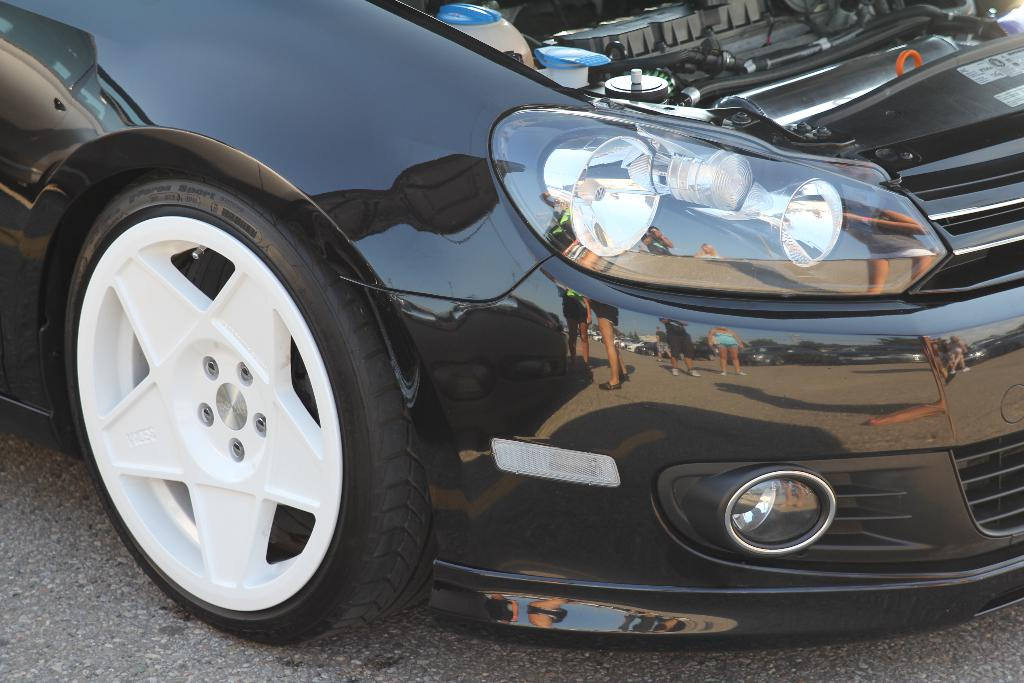Car: (0, 0, 1023, 649)
